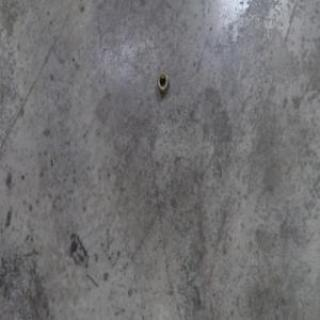Nuttrack_idkeyframe: (156, 70, 170, 95)
